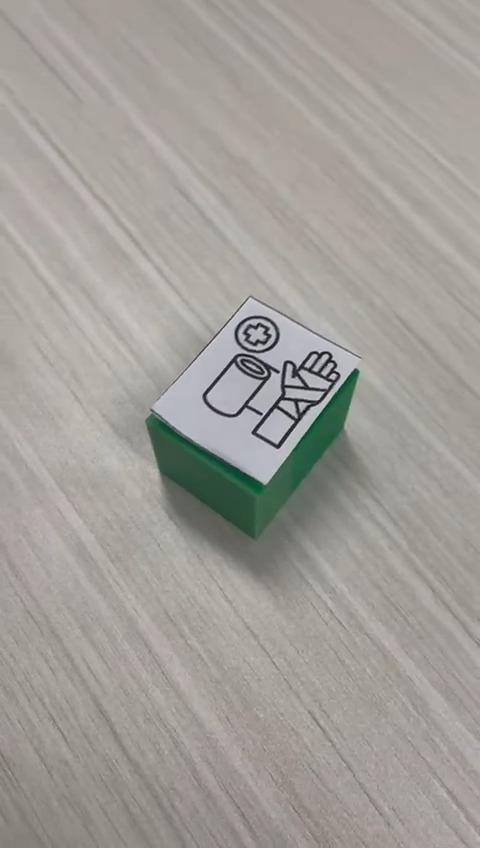Bandages: (147, 296, 364, 541)
